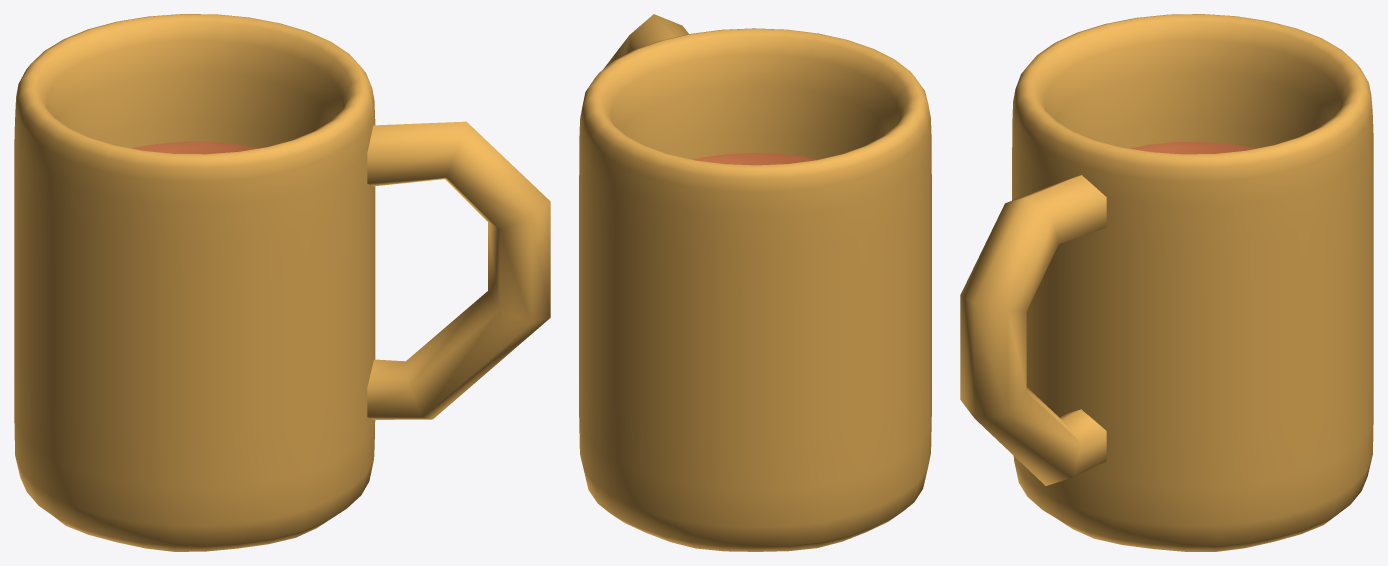
File: Mug.fbx
The picture shows the model from 3 angles, left to right: view 1: azimuth 30°, elevation 25°; view 2: azimuth 150°, elevation 25°; view 3: azimuth 270°, elevation 25°; orthographic projection. The views are drawn at different scales.
Visible parts, largest first — view 1: Mug, Plane.022, Mug.001; view 2: Mug, Plane.022, Mug.001; view 3: Mug, Plane.022, Mug.001.
Boxes of the visible parts, box(x1,y1,x2,y2) form: Mug: box(14, 14, 375, 551); Plane.022: box(367, 121, 550, 419); Mug.001: box(132, 142, 256, 153); Mug: box(579, 28, 931, 551); Plane.022: box(603, 14, 688, 69); Mug.001: box(694, 153, 816, 164); Mug: box(1012, 14, 1373, 551); Plane.022: box(960, 175, 1106, 485); Mug.001: box(1130, 142, 1255, 153).
Size of the model in its own units: 87.06 by 83.39 by 76.46.
